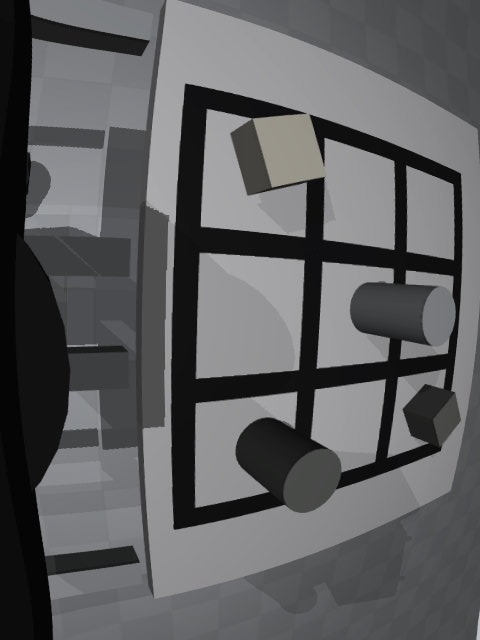can: (350, 282, 456, 347)
cube: (403, 384, 461, 447)
cylinder: (235, 417, 342, 513)
foam: (230, 113, 327, 195)
